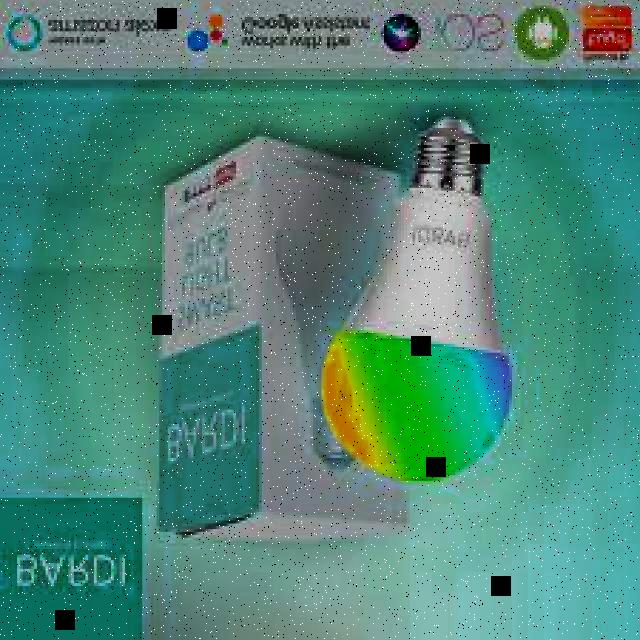light_bulb: (316, 108, 530, 492)
